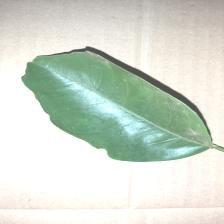healthy: (32, 55, 218, 168)
